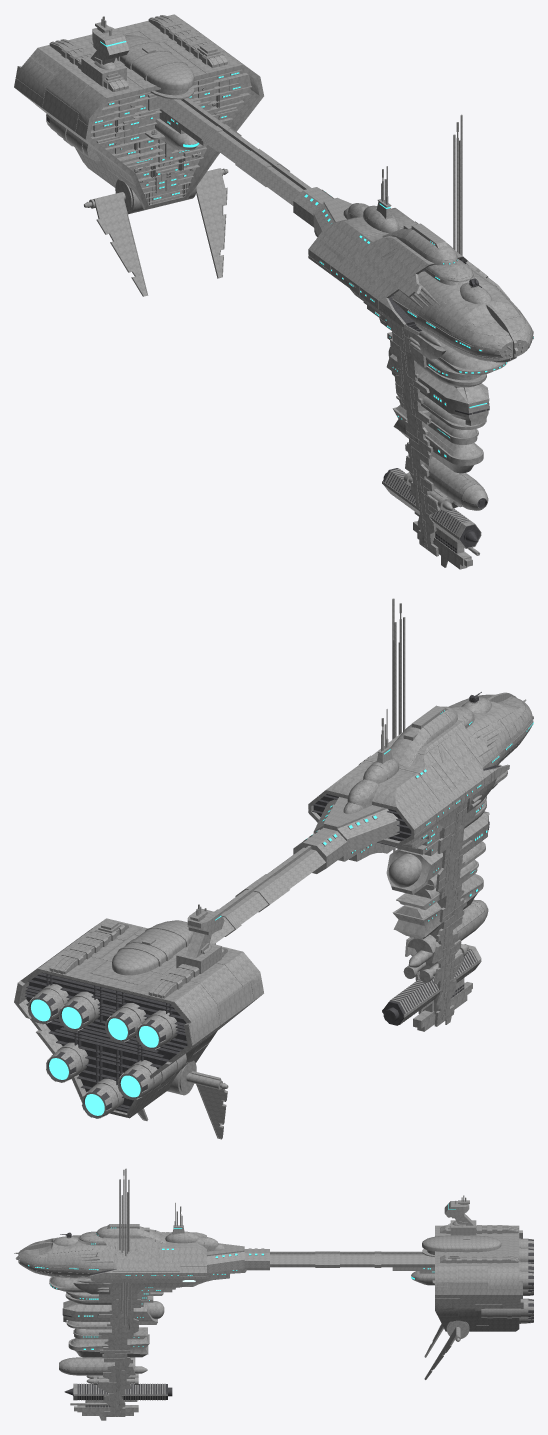
Rendered from sw_nebulon_b.glb.
3 views of the same model, one above another, from view 1: azimuth 30°, elevation 25°; view 2: azimuth 150°, elevation 25°; view 3: azimuth 270°, elevation 25° (orthographic). The views are drawn at different scales.
Visible parts, largest first — view 1: HullPlating_0, LowerSection_0, BackSectionExtras_0, GreeblesBackSection_0, ConnectingSpar_0, StaticDischangeVanes_0, BackSection_0, FrontSection_0, GreeblesFrontSection2_0, FrontSectionExtras_0, GreeblesFrontSection_0, LowerSection_1 (+1 smaller); view 2: HullPlating_0, LowerSection_0, BackSectionExtras_0, ConnectingSpar_0, Engines_0, GreeblesBackSection_1, BackSection_1, Engines_1, BackSection_0, StaticDischangeVanes_0, GreeblesFrontSection2_0, FrontSection_0 (+4 smaller); view 3: HullPlating_0, LowerSection_0, ConnectingSpar_0, BackSectionExtras_0, Engines_0, GreeblesFrontSection2_0, LowerSection_1, FrontSection_0, GreeblesFrontSection_0, StaticDischangeVanes_0, FrontSectionExtras_0, BackSection_0.
Part boxes in pixels (x1,y1,x2,y2): HullPlating_0: [14, 14, 532, 556]; LowerSection_0: [314, 229, 507, 569]; BackSectionExtras_0: [49, 15, 227, 149]; GreeblesBackSection_0: [90, 69, 251, 204]; ConnectingSpar_0: [151, 95, 352, 236]; StaticDischangeVanes_0: [84, 168, 228, 296]; BackSection_0: [15, 31, 263, 209]; FrontSection_0: [308, 224, 531, 358]; GreeblesFrontSection2_0: [381, 114, 512, 357]; FrontSectionExtras_0: [344, 199, 518, 362]; GreeblesFrontSection_0: [304, 189, 533, 458]; LowerSection_1: [383, 403, 489, 553]; HullPlating_0: [18, 694, 532, 1117]; LowerSection_0: [338, 764, 507, 1031]; BackSectionExtras_0: [49, 904, 227, 998]; ConnectingSpar_0: [210, 797, 399, 943]; Engines_0: [27, 984, 186, 1118]; GreeblesBackSection_1: [24, 972, 187, 1111]; BackSection_1: [26, 972, 187, 1112]; Engines_1: [31, 999, 158, 1115]; BackSection_0: [14, 927, 261, 1118]; StaticDischangeVanes_0: [137, 1060, 228, 1139]; GreeblesFrontSection2_0: [381, 598, 526, 851]; FrontSection_0: [308, 708, 529, 846]; HullPlating_0: [19, 1225, 523, 1416]; LowerSection_0: [49, 1268, 246, 1420]; ConnectingSpar_0: [207, 1243, 434, 1273]; BackSectionExtras_0: [392, 1195, 518, 1285]; Engines_0: [481, 1238, 533, 1323]; GreeblesFrontSection2_0: [14, 1168, 182, 1325]; LowerSection_1: [62, 1308, 172, 1407]; FrontSection_0: [19, 1230, 206, 1287]; GreeblesFrontSection_0: [19, 1227, 264, 1350]; StaticDischangeVanes_0: [424, 1320, 469, 1379]; FrontSectionExtras_0: [16, 1224, 220, 1263]; BackSection_0: [435, 1230, 523, 1331].
Bounding box in the file's own units: 0.4744 × 1.09 × 1.95.
Materials: 6 (2 with a texture image).
